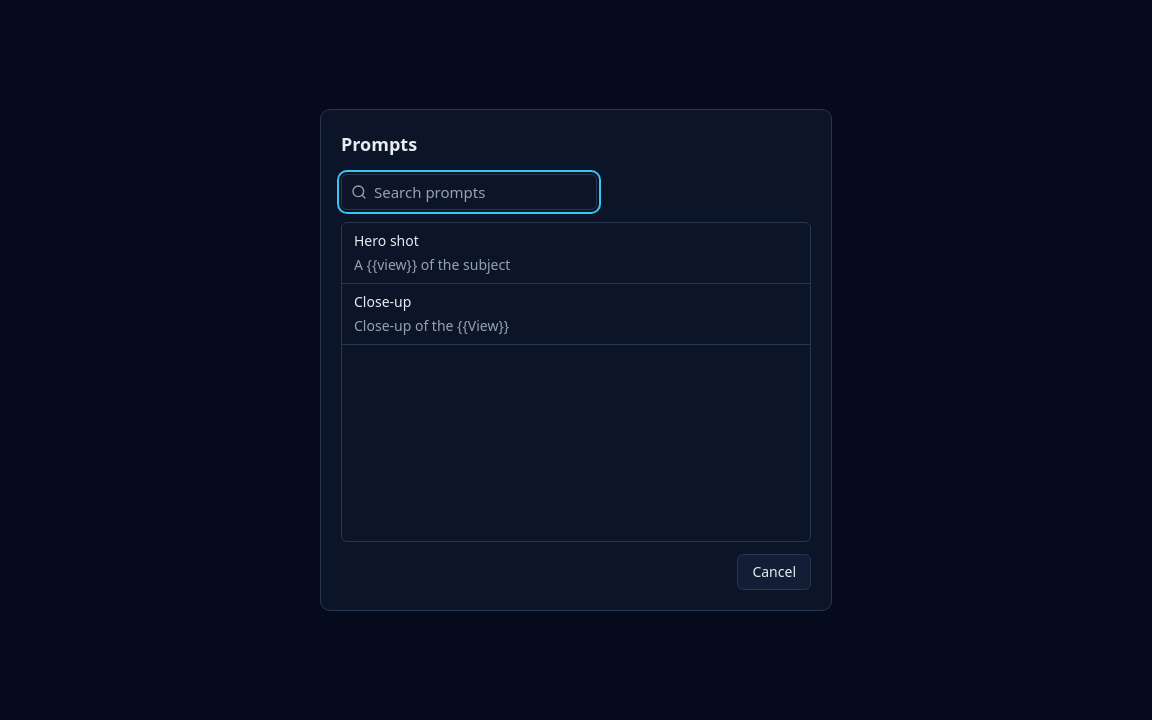
Test: a search answer that arrives after a newer search is dropped
Expected: the text "Hero shot" is shown, top-left (354, 231), bottom-right (419, 250)
Type "hero" into the search field labelled "Search prompts".
click(469, 192); type("hero")  # box top-left (341, 174), bottom-right (597, 210)
Wait 250 ms
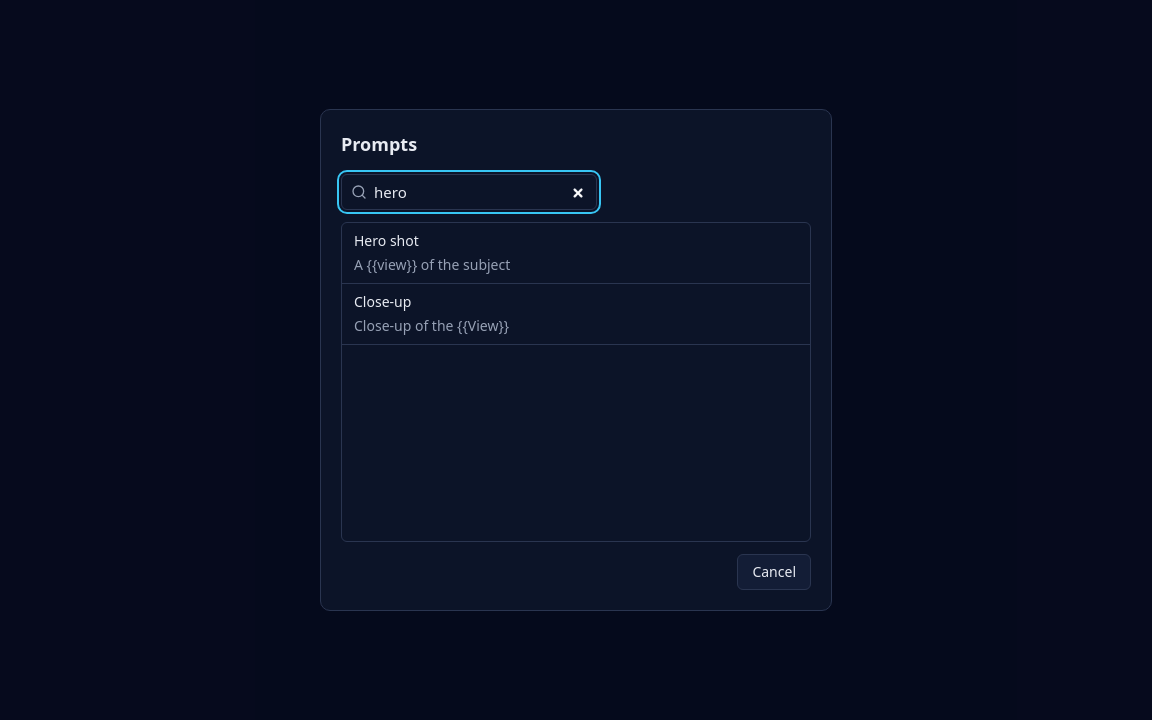
Replace the text in the search field named "Search prompts" with "close" at coordinates (469, 192), box top-left (341, 174), bottom-right (597, 210)
Wait 250 ms
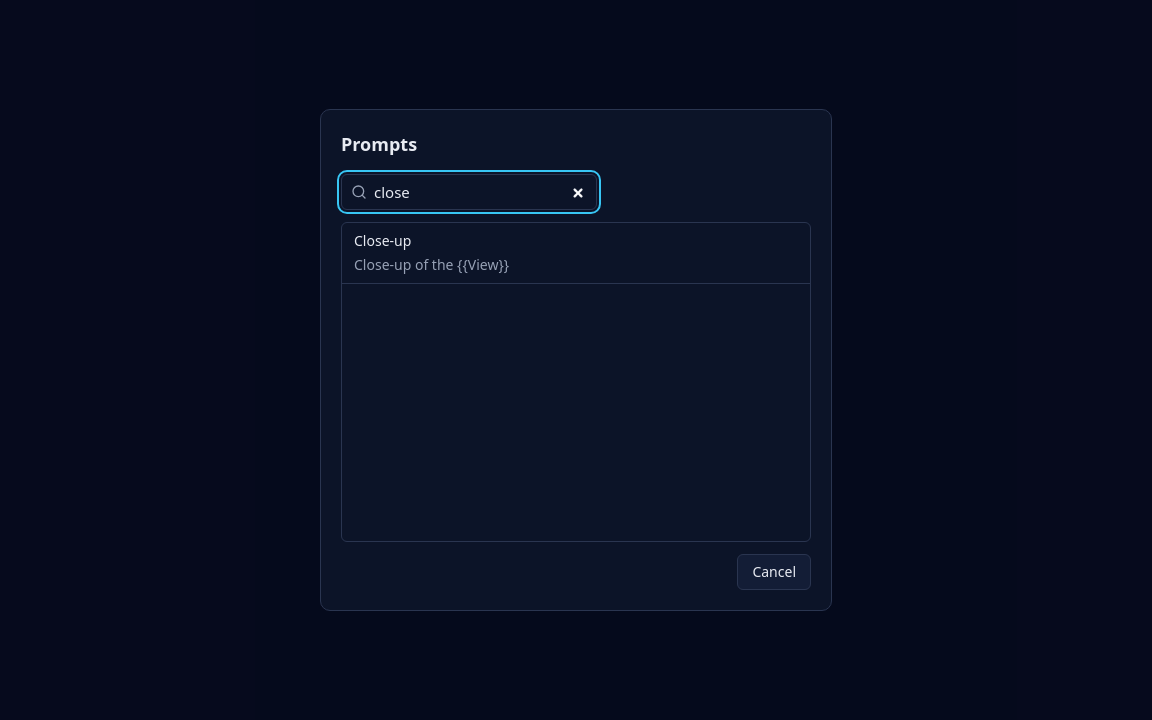
Expected: the text "Close-up" is shown, top-left (354, 231), bottom-right (411, 250)
Expected: the option "Hero shot" is gone
